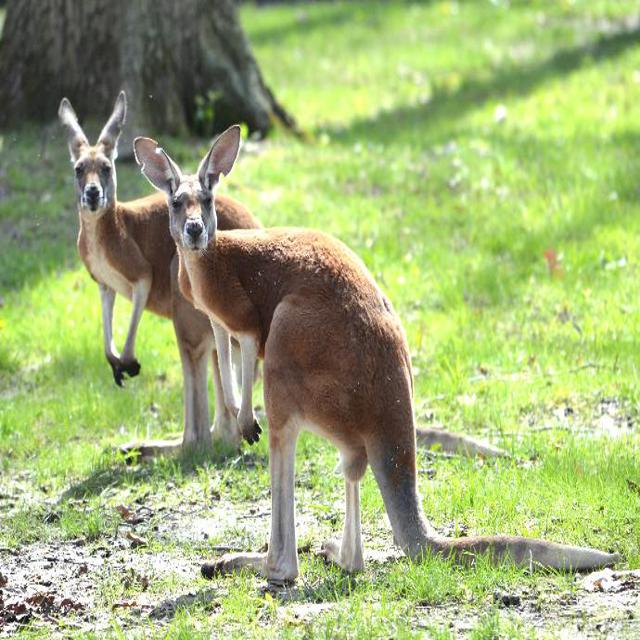kangaroo: (132, 130, 417, 576), (51, 90, 138, 368)
